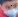with_mask: (1, 2, 18, 17)
